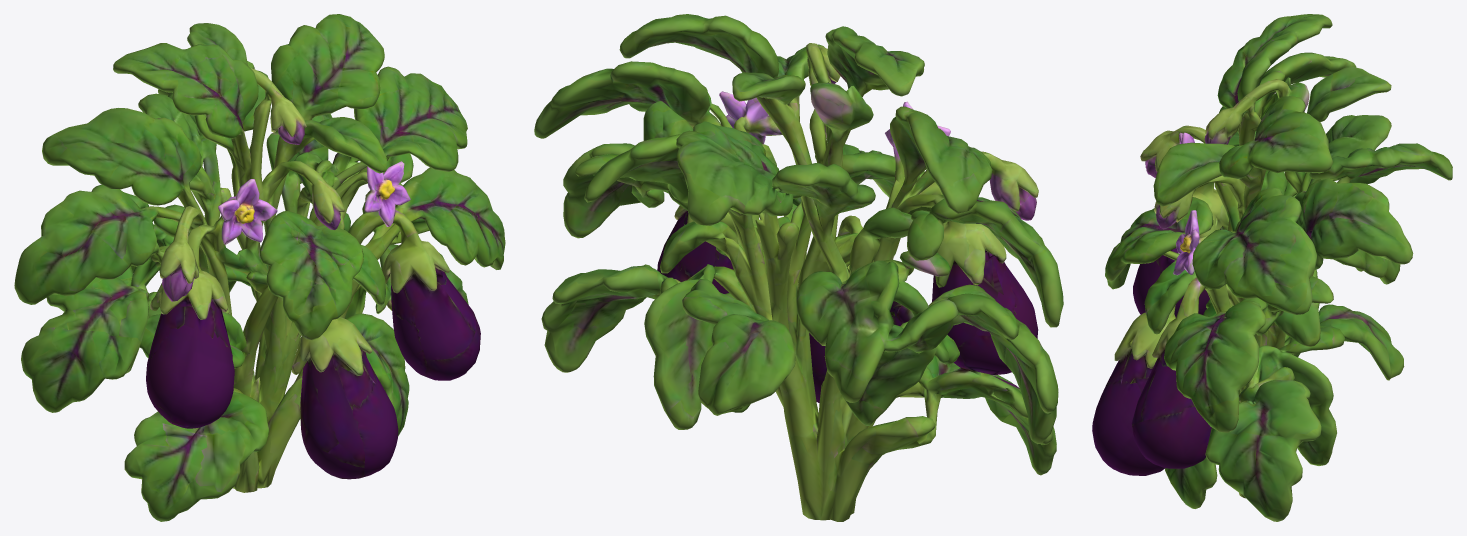
File: eggplant-mature.glb
The picture shows the model from 3 angles, left to right: view 1: azimuth 30°, elevation 25°; view 2: azimuth 150°, elevation 25°; view 3: azimuth 270°, elevation 25°; orthographic projection. The views are drawn at different scales.
Bounding box in the file's own units: 1.9 × 1.72 × 1.28.
Materials: 1 (1 with a texture image).
